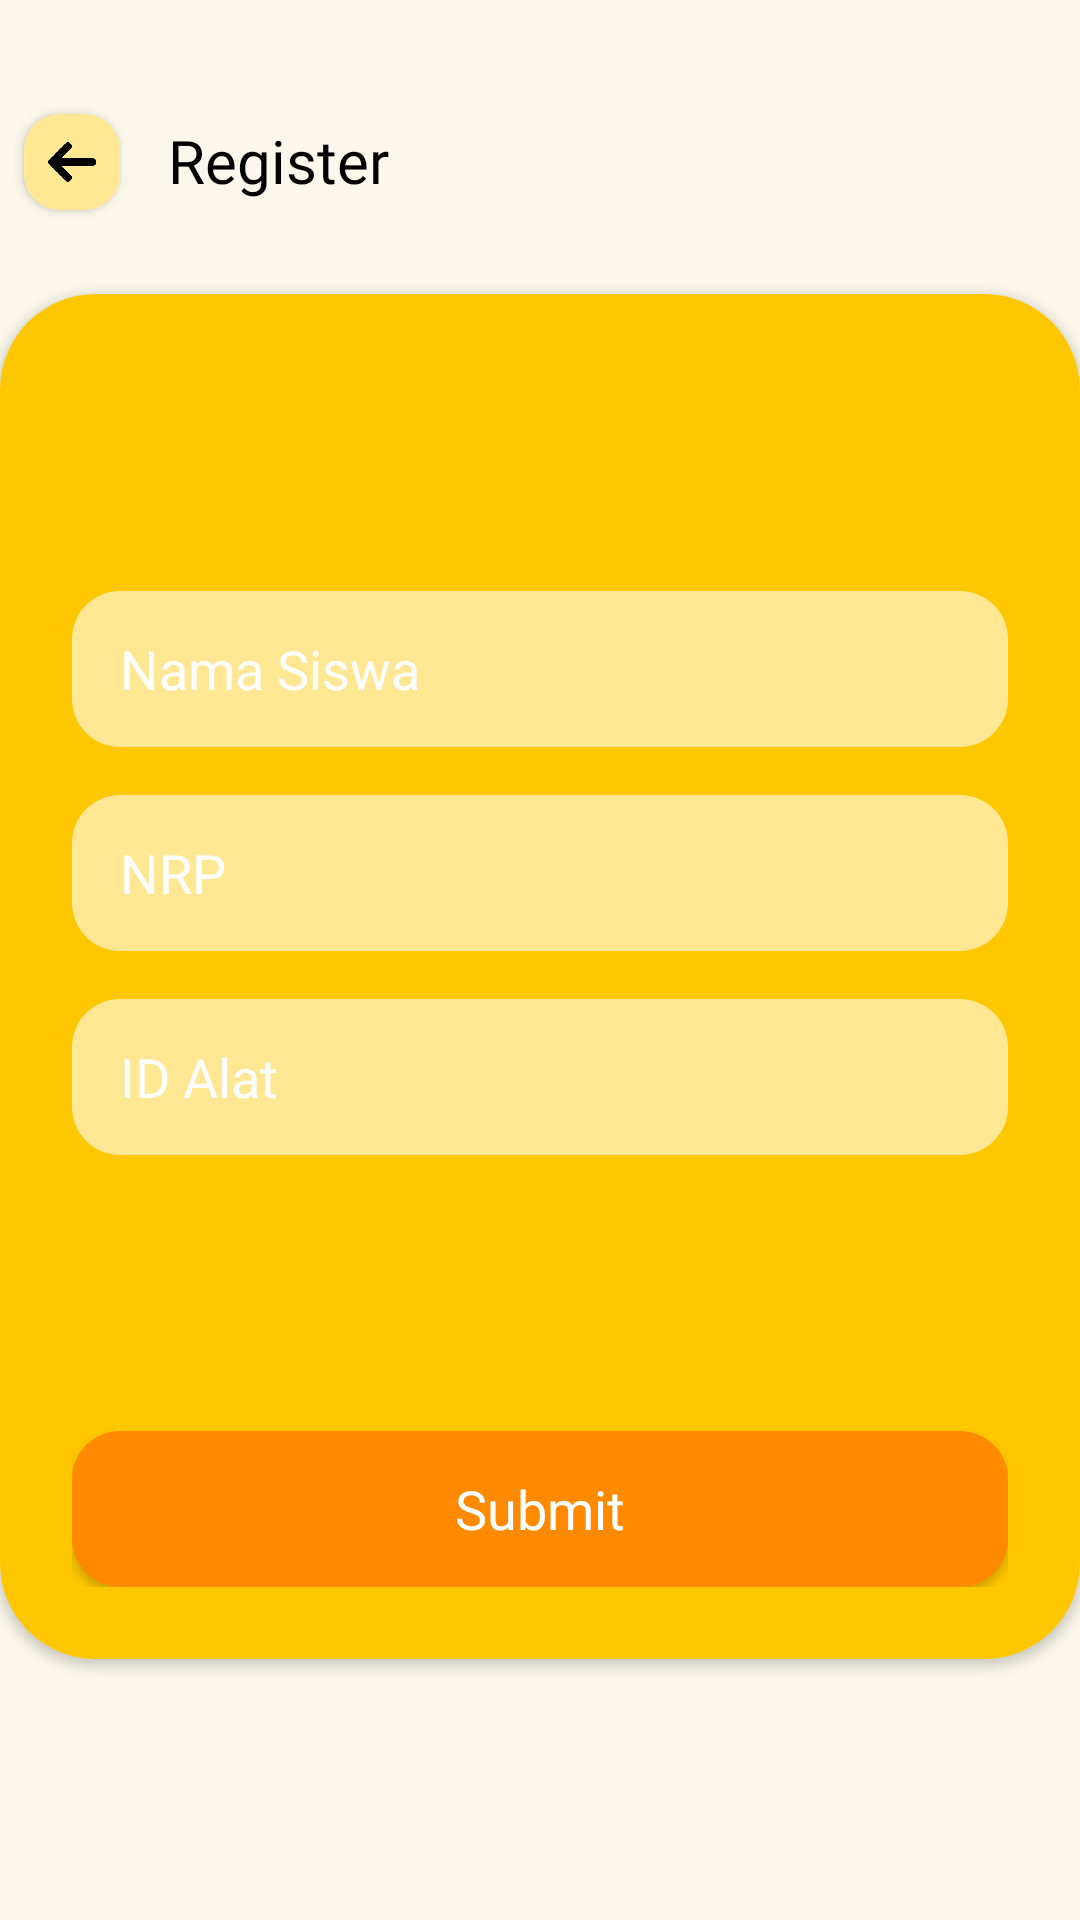

Icon bounding boxes for this 1080*1920 phone screenshot, format bbox=[x1, y1, x2, y2]:
arrow: bbox=[48, 142, 96, 182]
